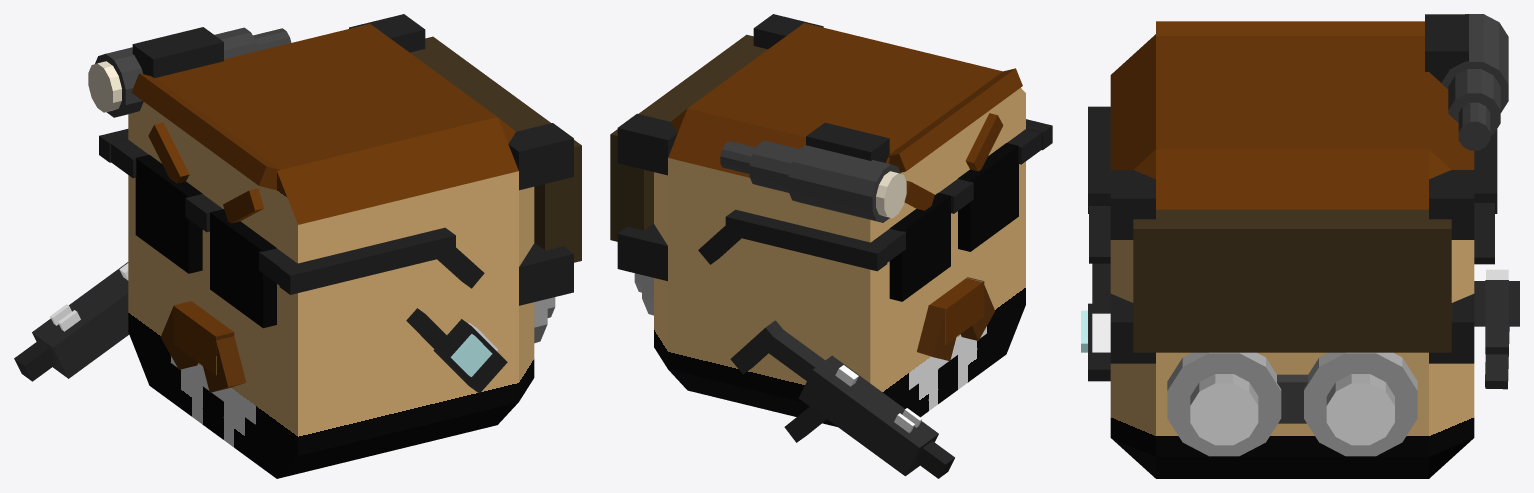
File: playerReloadingsmg.gltf
3 views of the same model, side by side, from view 1: azimuth 30°, elevation 25°; view 2: azimuth 150°, elevation 25°; view 3: azimuth 270°, elevation 25° (orthographic). The views are drawn at different scales.
Parts seen in each view (by area): view 1: beveled_cuboid, cube; view 2: beveled_cuboid, cube; view 3: beveled_cuboid, cube.
Boxes of the visible parts, bbox=[...] form: beveled_cuboid: bbox=[88, 14, 581, 478]; cube: bbox=[14, 262, 129, 381]; beveled_cuboid: bbox=[610, 14, 1052, 426]; cube: bbox=[730, 320, 954, 478]; beveled_cuboid: bbox=[1081, 14, 1508, 478]; cube: bbox=[1474, 269, 1519, 389].
Bounding box in the file's own units: 1.33 × 1.06 × 1.21.
Materials: 4 (4 with a texture image).
